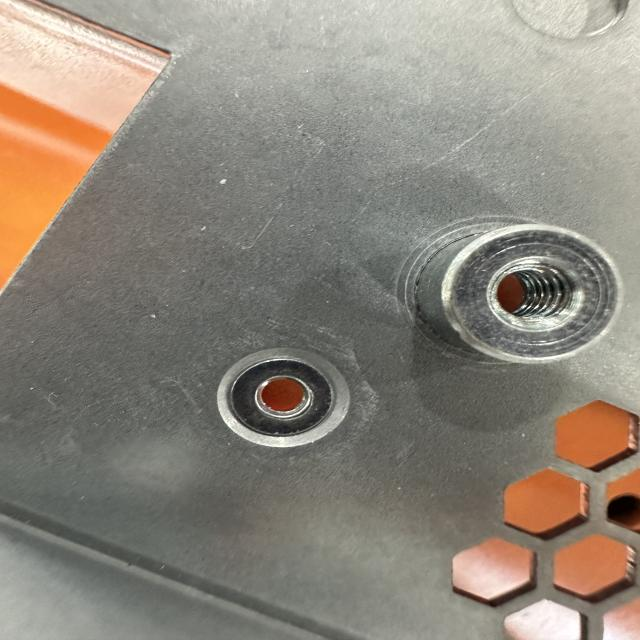Missing screw: (206, 339, 361, 454)
